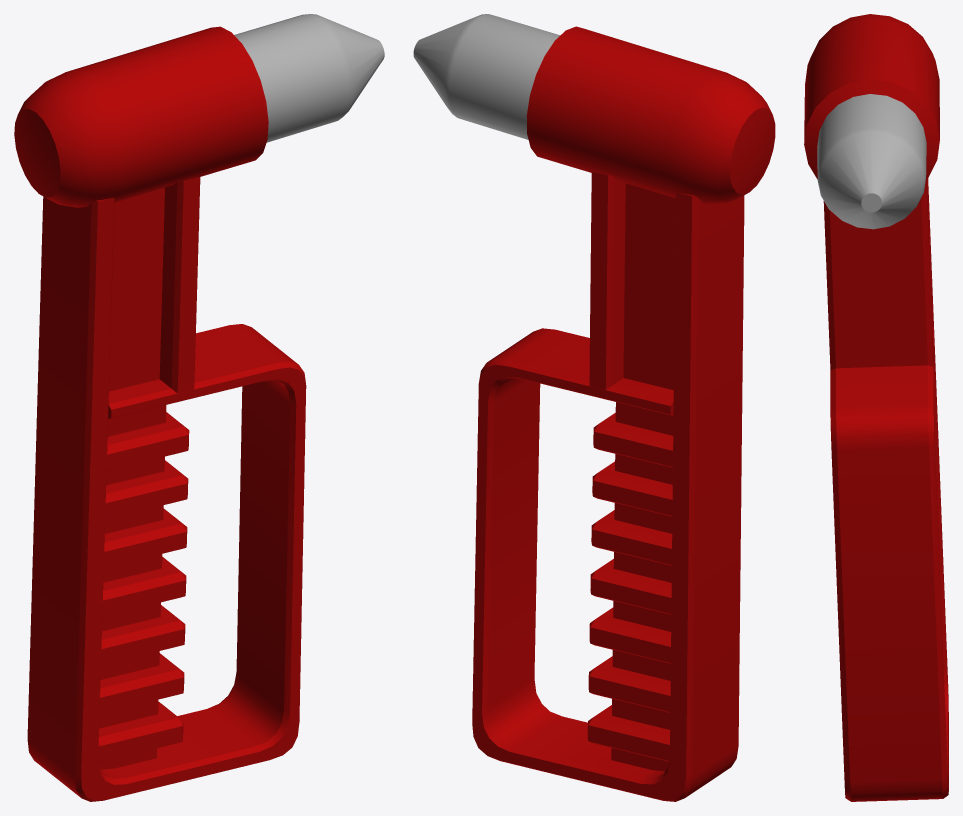
Rendered from hammer.fbx.
3 renders of one model, left to right at view 1: azimuth 30°, elevation 25°; view 2: azimuth 150°, elevation 25°; view 3: azimuth 270°, elevation 25°, orthographic. The views are drawn at different scales.
Visible parts, largest first — view 1: 对象; view 2: 对象; view 3: 对象.
Boxes of the visible parts, x1,y1,x2,y2 form: 对象: [14, 14, 384, 801]; 对象: [413, 14, 775, 801]; 对象: [804, 14, 948, 801].
Size of the model in its own units: 91.16 by 183 by 34.03.
